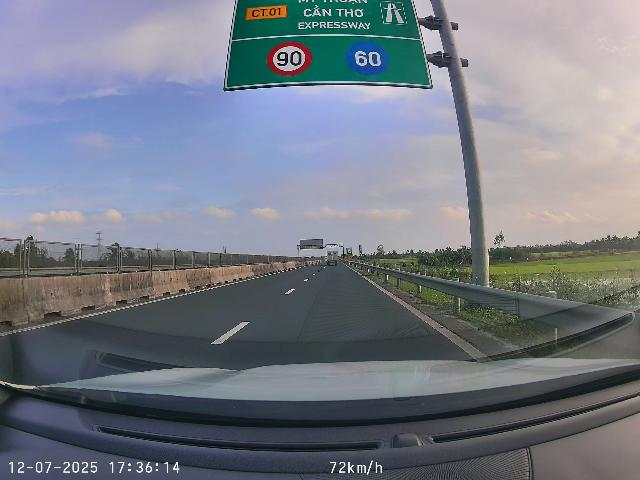127-toc-do-toi-da-90: (266, 41, 312, 76)
306-toc-do-toi-thieu-60: (345, 41, 390, 76)
437-bat-dau-duong-cao-toc: (379, 0, 408, 26)
